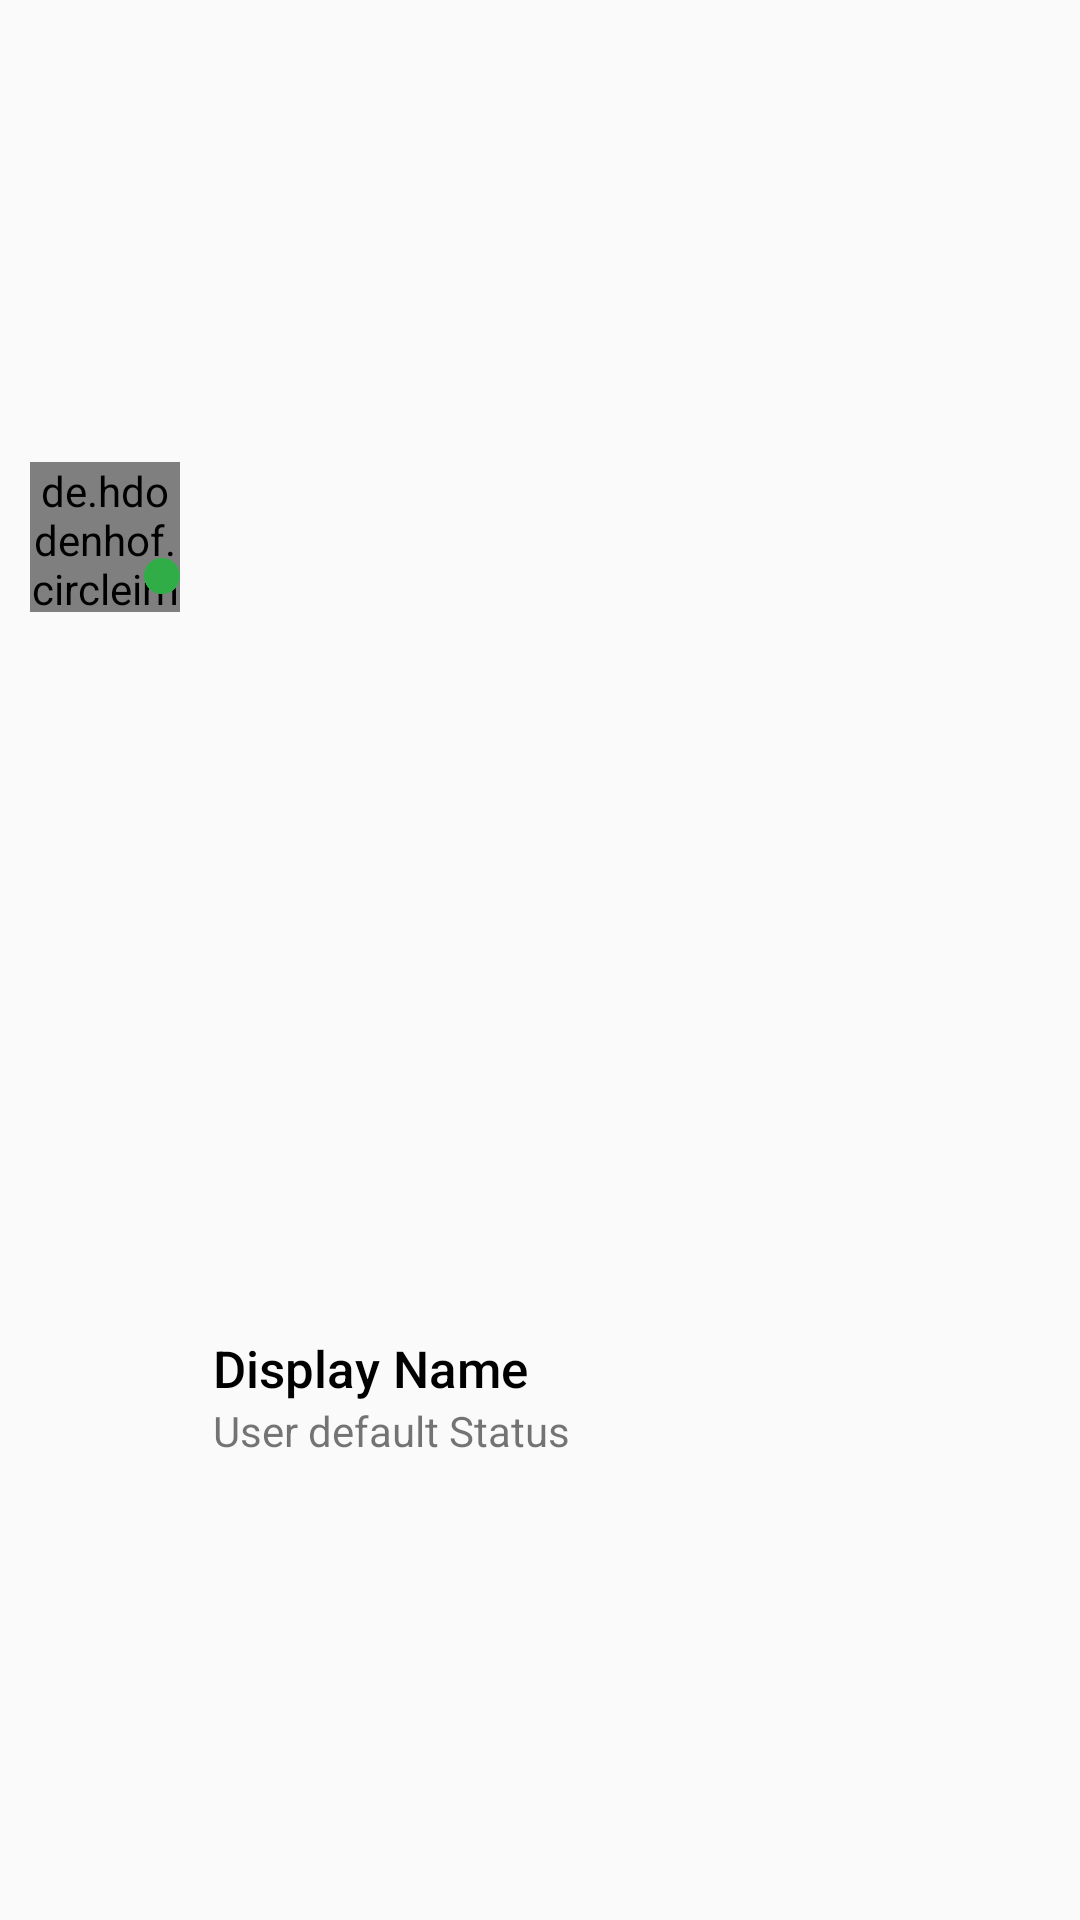

Icons on this 1080px×1920px Android screen, each with the point to tap as [x,y]:
online: [162,576]
